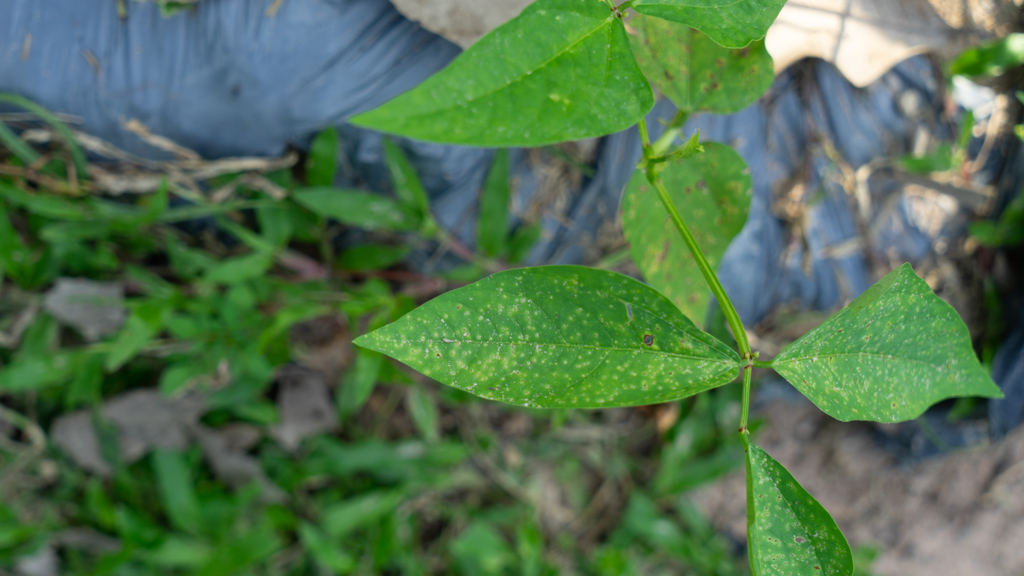Rust: (370, 296, 733, 412), (774, 279, 995, 415), (741, 446, 854, 570), (640, 155, 742, 292)
